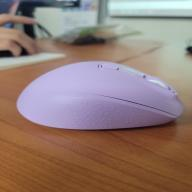mouse: (13, 52, 185, 132)
